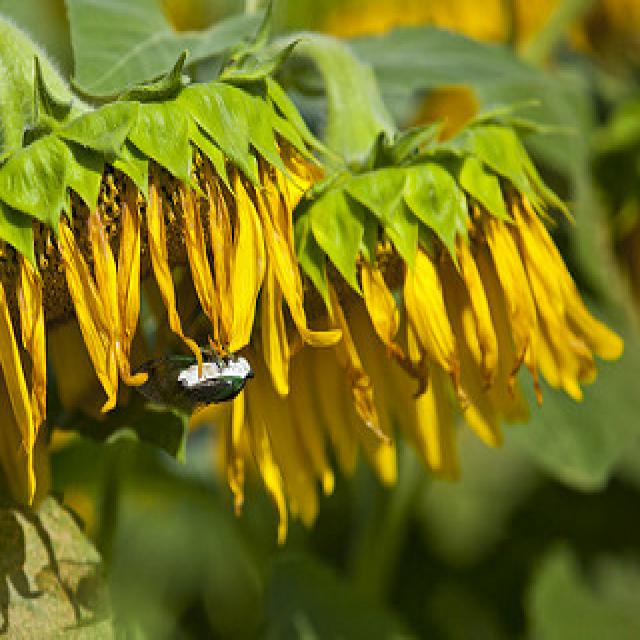sunflower: (236, 181, 622, 519), (1, 61, 315, 460)
